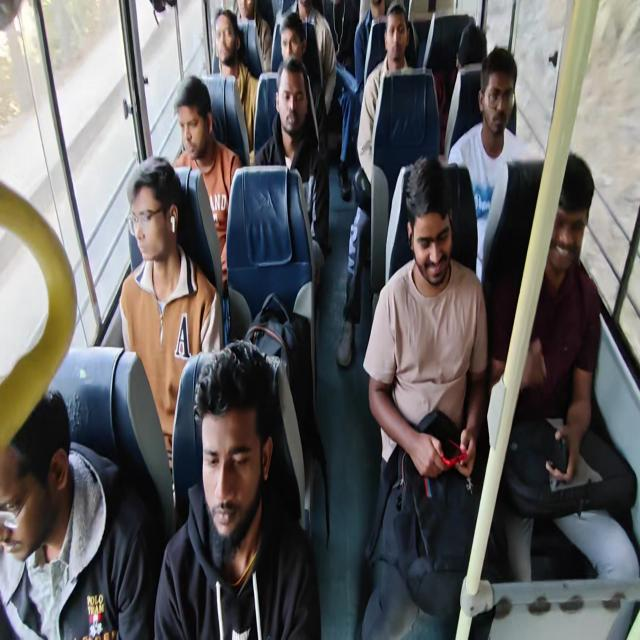person: (2, 1, 637, 638), (484, 151, 639, 584), (361, 155, 494, 637), (154, 338, 322, 638), (0, 389, 154, 639), (119, 155, 223, 492), (336, 2, 417, 368), (446, 46, 537, 282), (253, 56, 330, 272), (171, 74, 244, 286), (357, 2, 416, 184), (275, 10, 326, 144), (212, 9, 258, 152), (354, 0, 388, 92), (235, 0, 272, 75)
